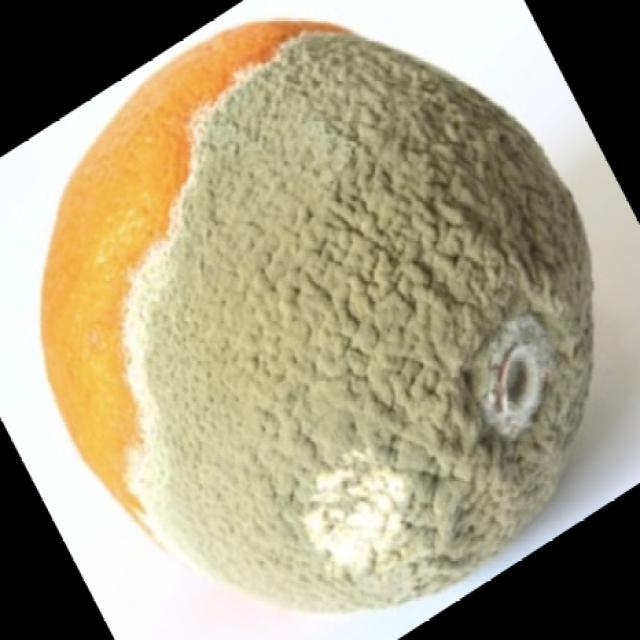sangat-busuk: (42, 19, 593, 612), (129, 35, 592, 610)
